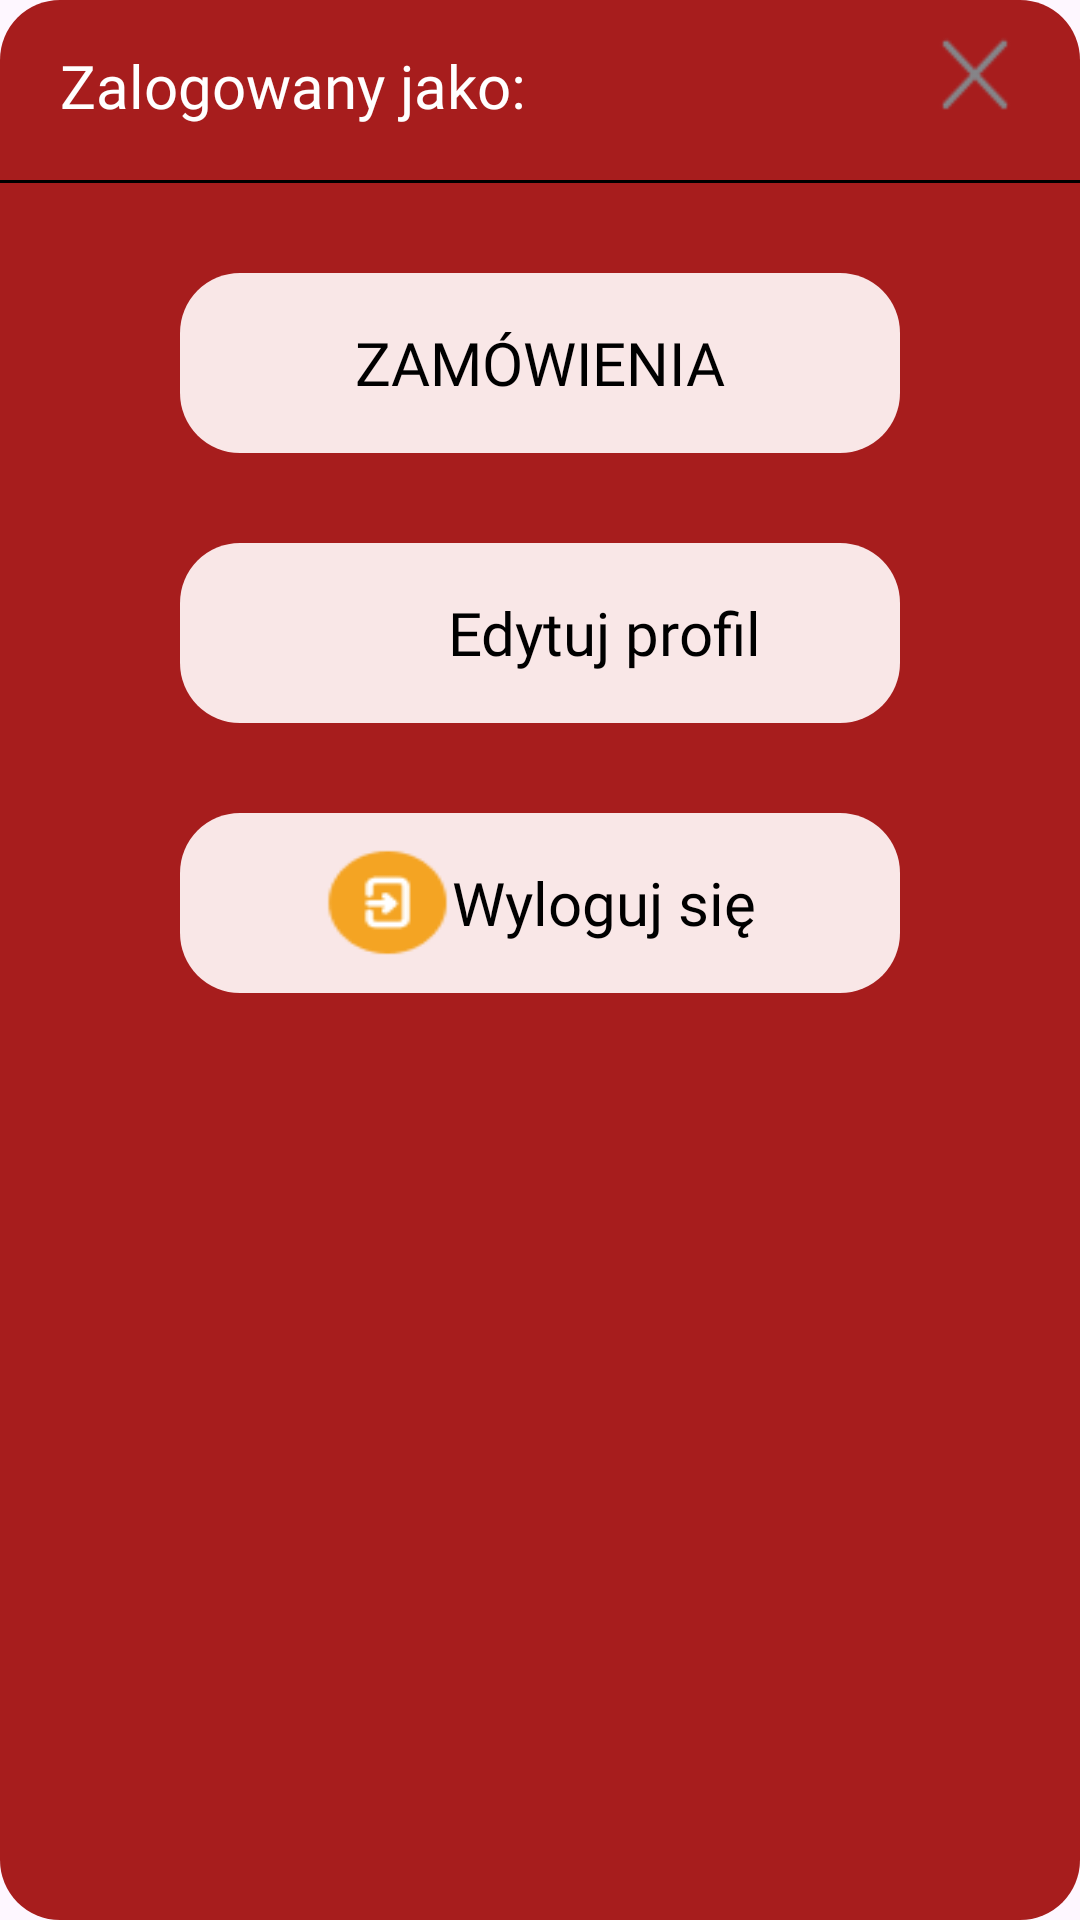

Icon bounding boxes for this 1080×1920 phone screenshot, format (x1, y1, x2, y2):
close photo: (942, 40, 1008, 109)
